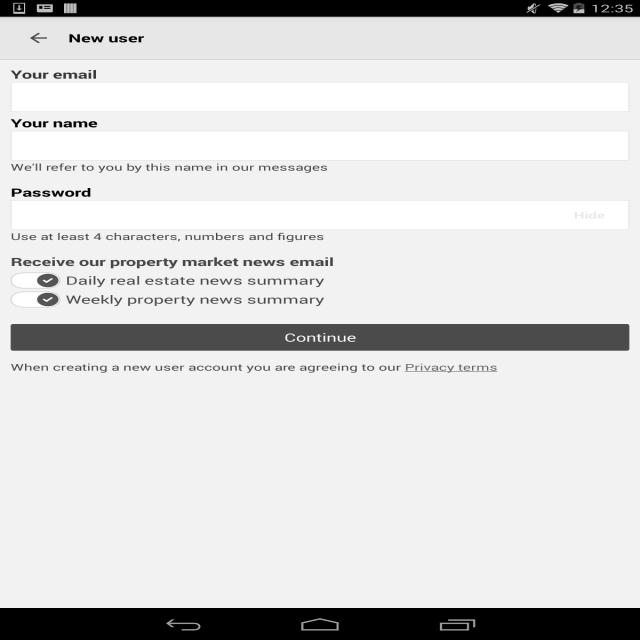Button: (11, 324, 629, 351)
CheckBox: (11, 272, 324, 292), (11, 292, 324, 307)
EditText: (11, 82, 629, 112), (11, 130, 629, 160), (27, 200, 565, 230)
ImageButton: (9, 17, 68, 59)
TextView: (69, 30, 632, 46), (10, 361, 498, 373), (11, 254, 334, 269), (11, 230, 324, 243), (10, 161, 328, 173), (566, 200, 614, 230), (11, 115, 98, 131), (11, 67, 97, 82), (11, 185, 91, 200)
